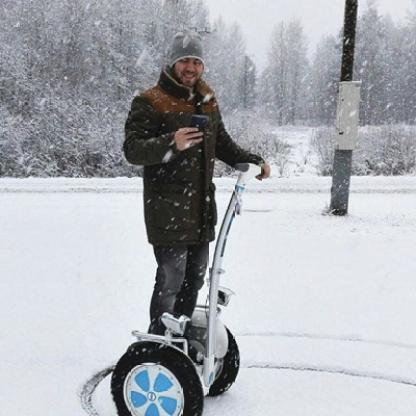Without Helmet: (165, 29, 211, 89)
